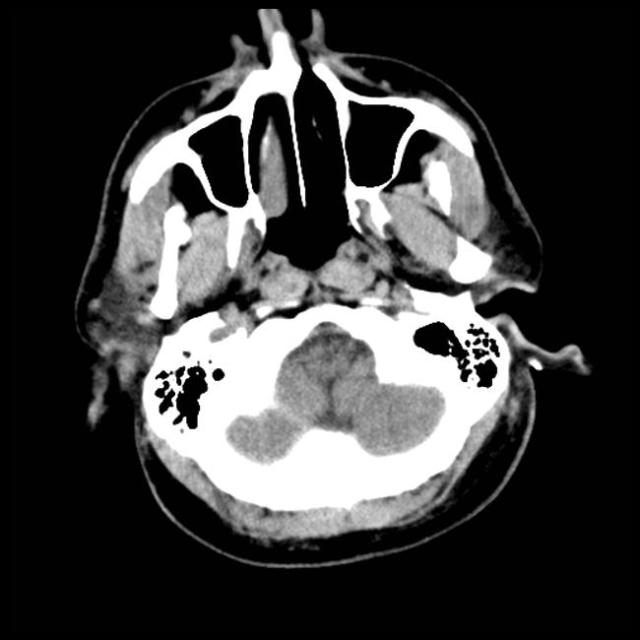lesion: (72, 9, 590, 565)
